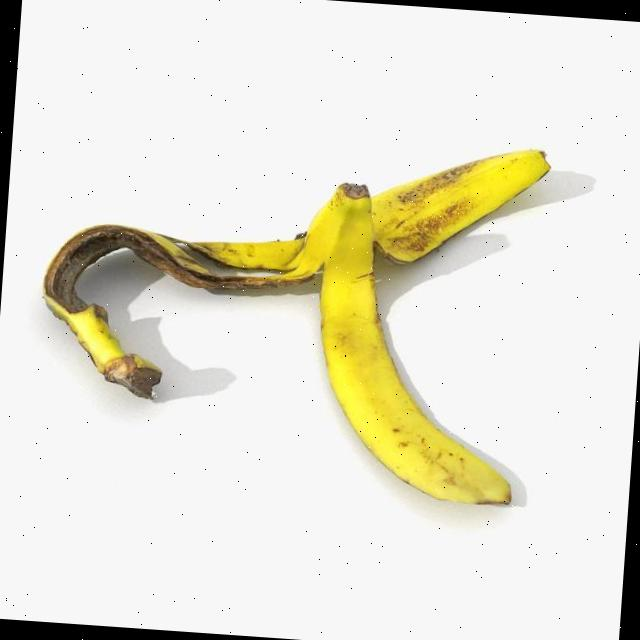banana-peel: (28, 113, 552, 509)
